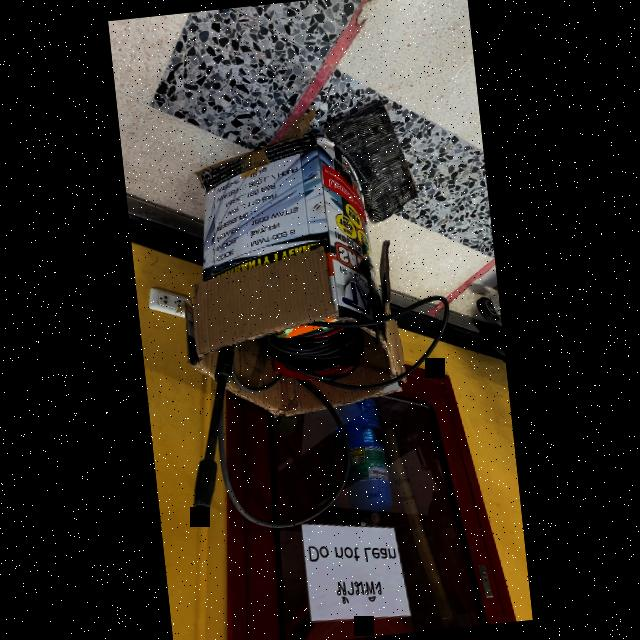cardboard_box: (165, 124, 412, 438)
